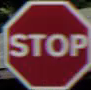Stop: (0, 2, 89, 84)
